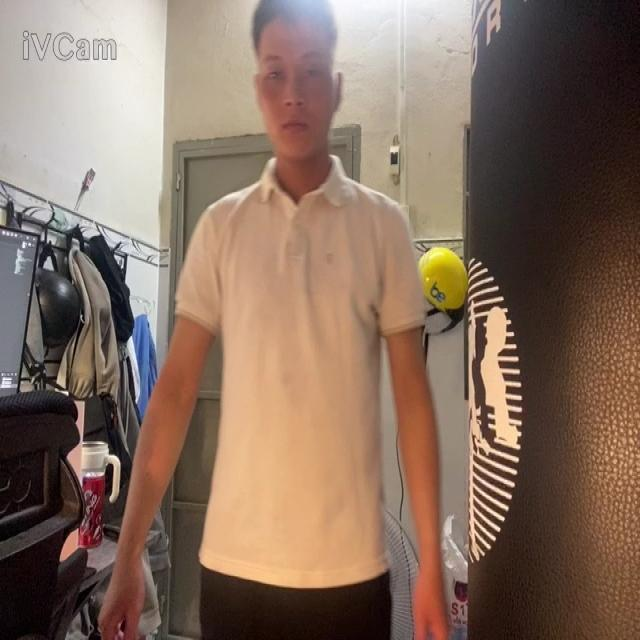u: (176, 156, 423, 587)
